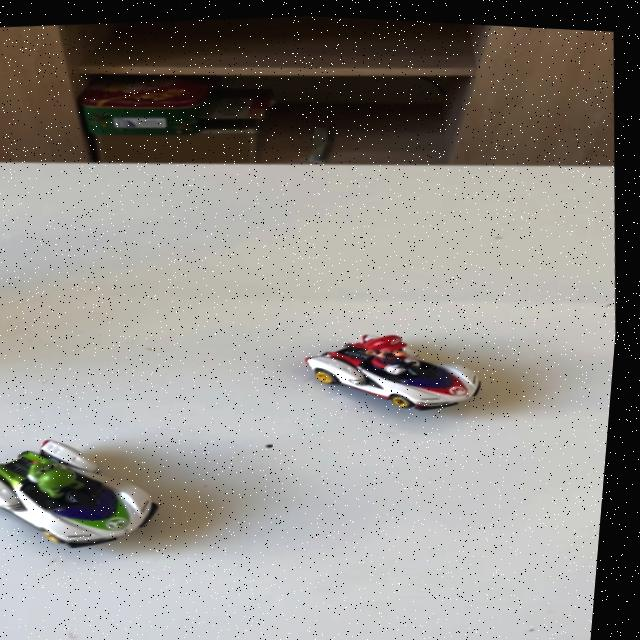mario: (268, 302, 511, 426)
yoshi: (0, 415, 207, 565)
